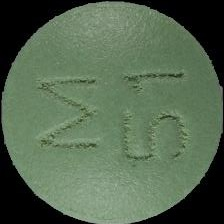51079-107: (0, 0, 224, 224)
